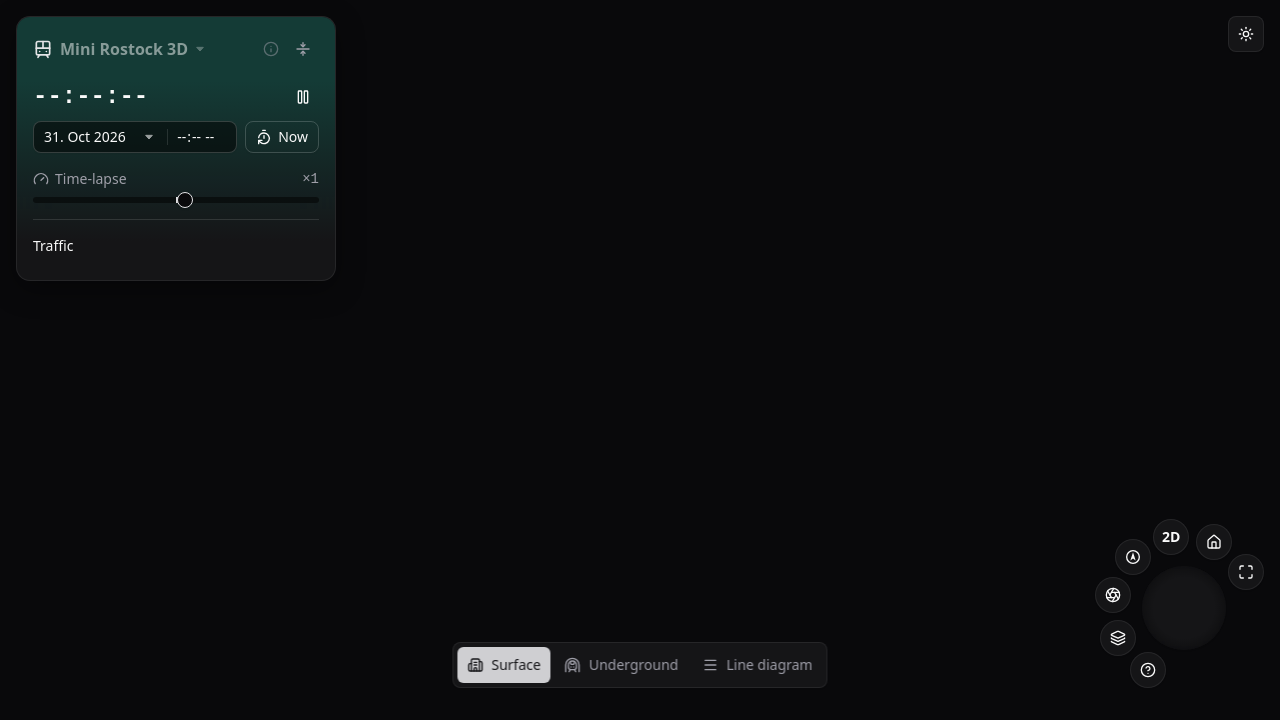
Test: App (UI shell) › pause button toggles between pause and resume
The image size is (1280, 720).
Click the button named "Pause simulation" at (303,97), box 287,81 -> 319,113
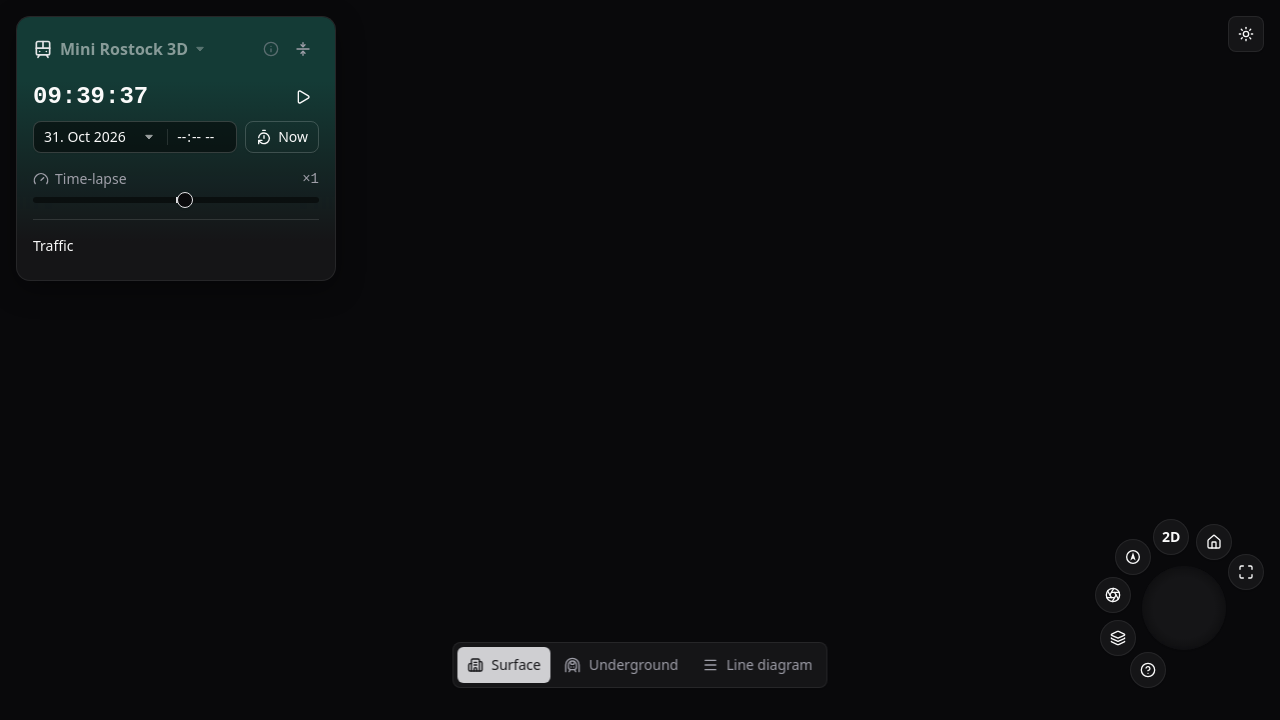
Expected: the button named "Resume simulation" is shown, 287,81 -> 319,113
